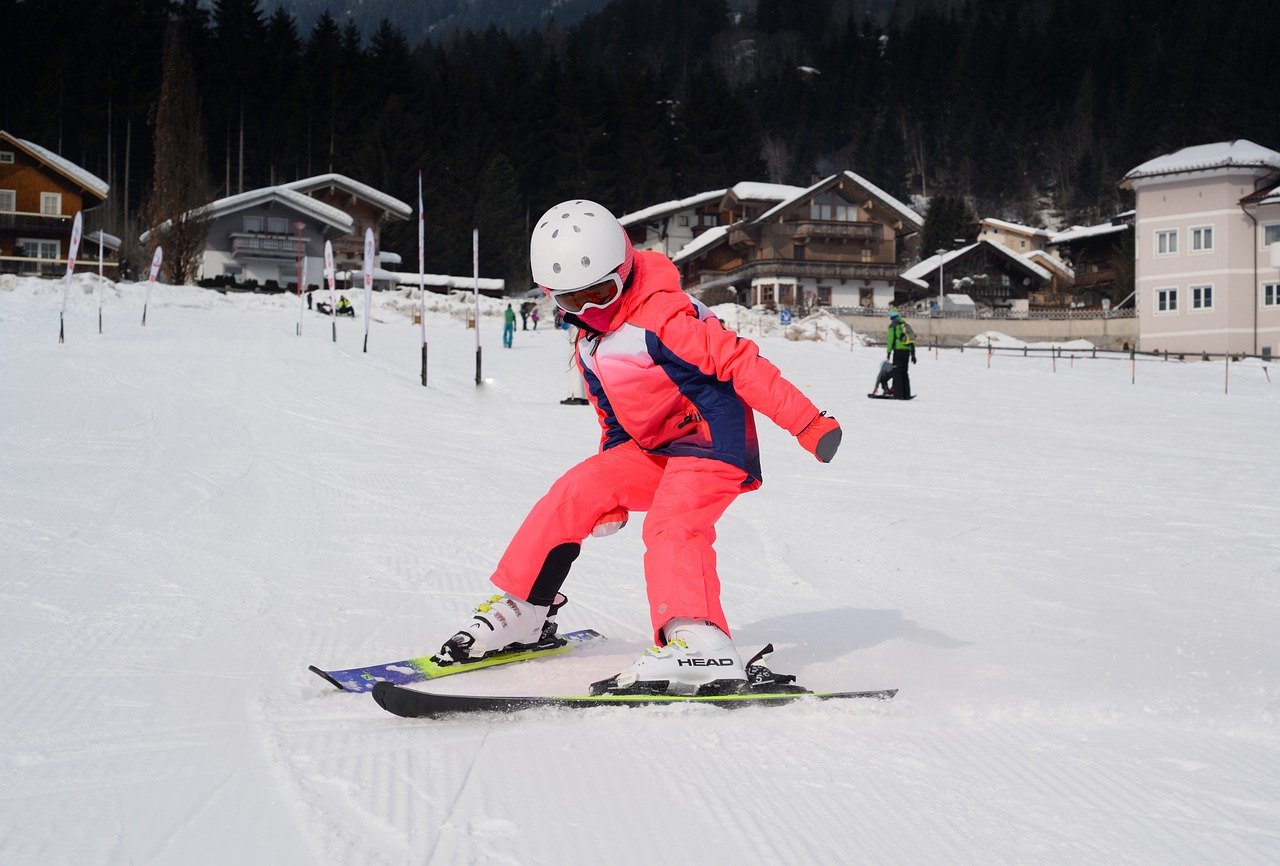skier: (290, 154, 932, 756)
